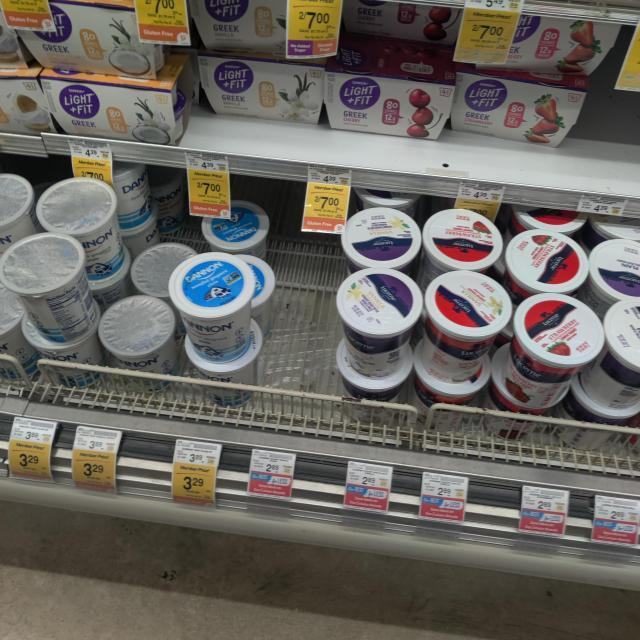Yogurt: (1, 234, 99, 342), (515, 293, 606, 408), (426, 271, 512, 379), (172, 251, 254, 357), (39, 179, 125, 278), (342, 271, 423, 375), (105, 298, 181, 391), (506, 229, 590, 293), (423, 207, 504, 269), (342, 206, 420, 269), (203, 198, 271, 250)
